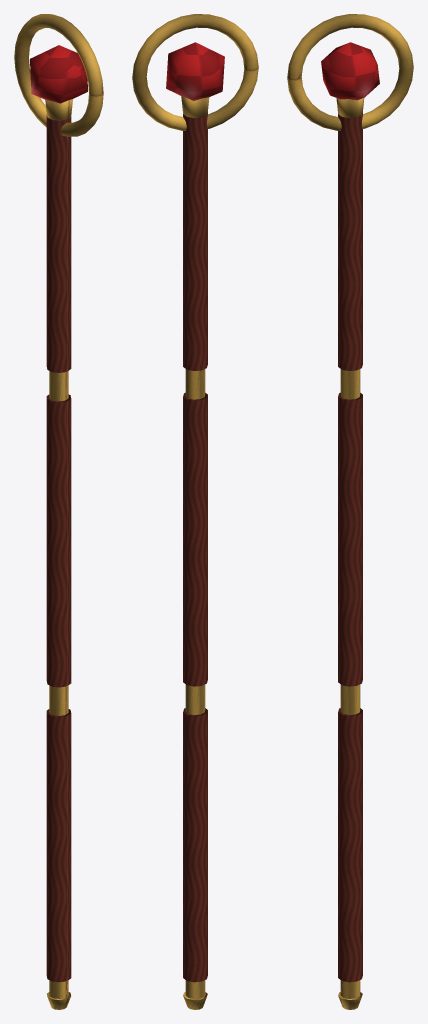
File: mm7_m274_staff.glb
3 views of the same model, side by side, from view 1: azimuth 90°, elevation 25°; view 2: azimuth 150°, elevation 25°; view 3: azimuth 330°, elevation 25° (orthographic).
Visible parts, largest first — view 1: Staff; view 2: Staff; view 3: Staff.
Part boxes in pixels (x1=…): Staff: x1=14, y1=14, x2=103, y2=1009; Staff: x1=132, y1=14, x2=258, y2=1009; Staff: x1=287, y1=14, x2=413, y2=1009.
Size of the model in its own units: 0.1502 by 1.63 by 0.1336.
1 material, 1 textured.
